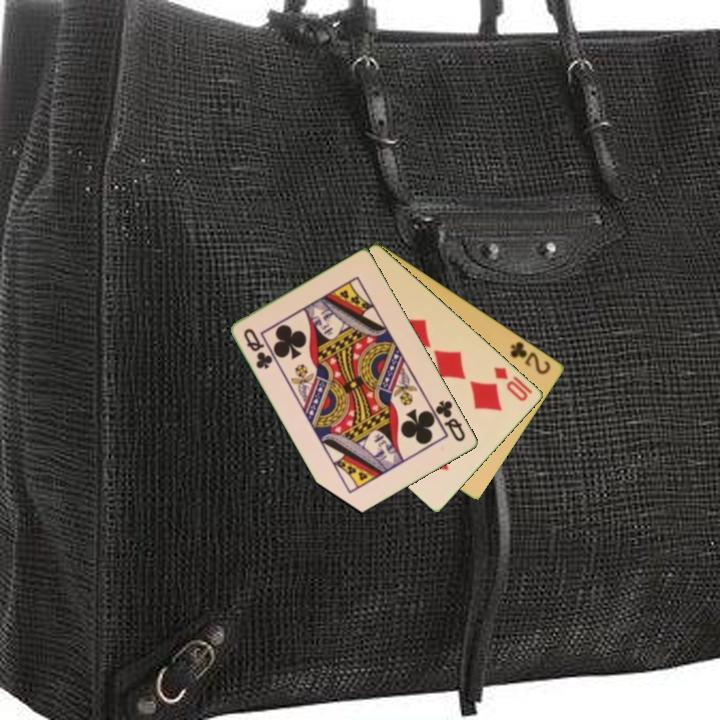10d: (490, 363, 536, 404)
2c: (507, 338, 554, 377)
Qc: (428, 396, 469, 445), (240, 325, 276, 372)
